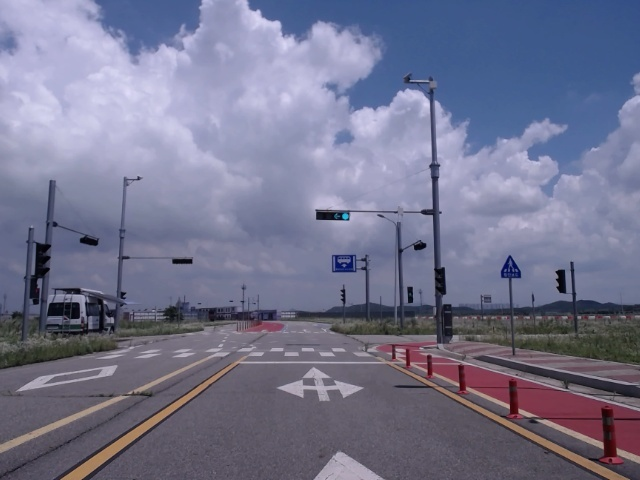all_green_4: (316, 209, 349, 220)
